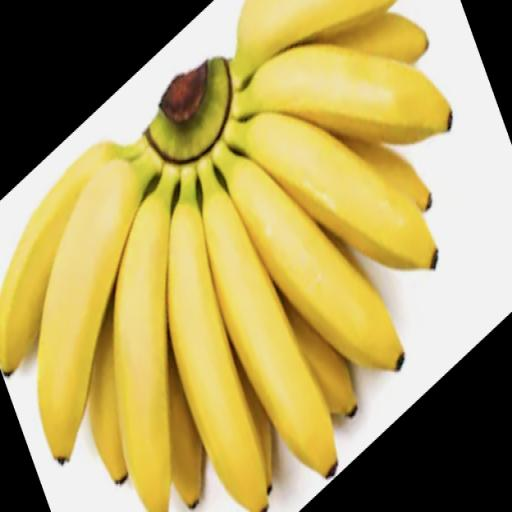banana-ripe: (3, 4, 512, 499)
